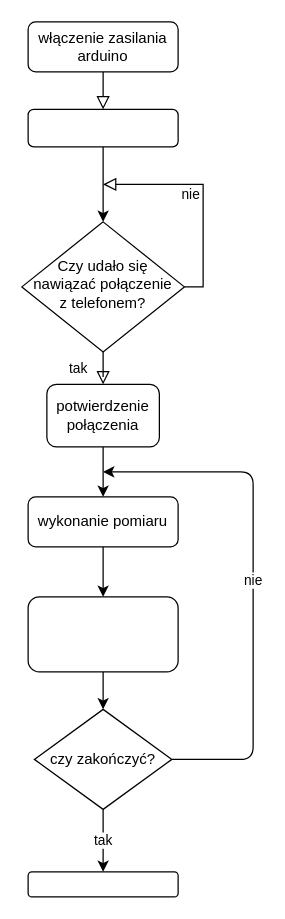
The diagram is 285 pixels wide and 919 high, and some of its shapes have lost their labels. Here are the shapes that lost their labels. From the top down, the centre of each, then its label:
pixel 102 127: nawiązanie połączenia
pixel 102 634: potwierdzenie zakończenia i wyświetlenie wyniku
pixel 102 884: koniec
